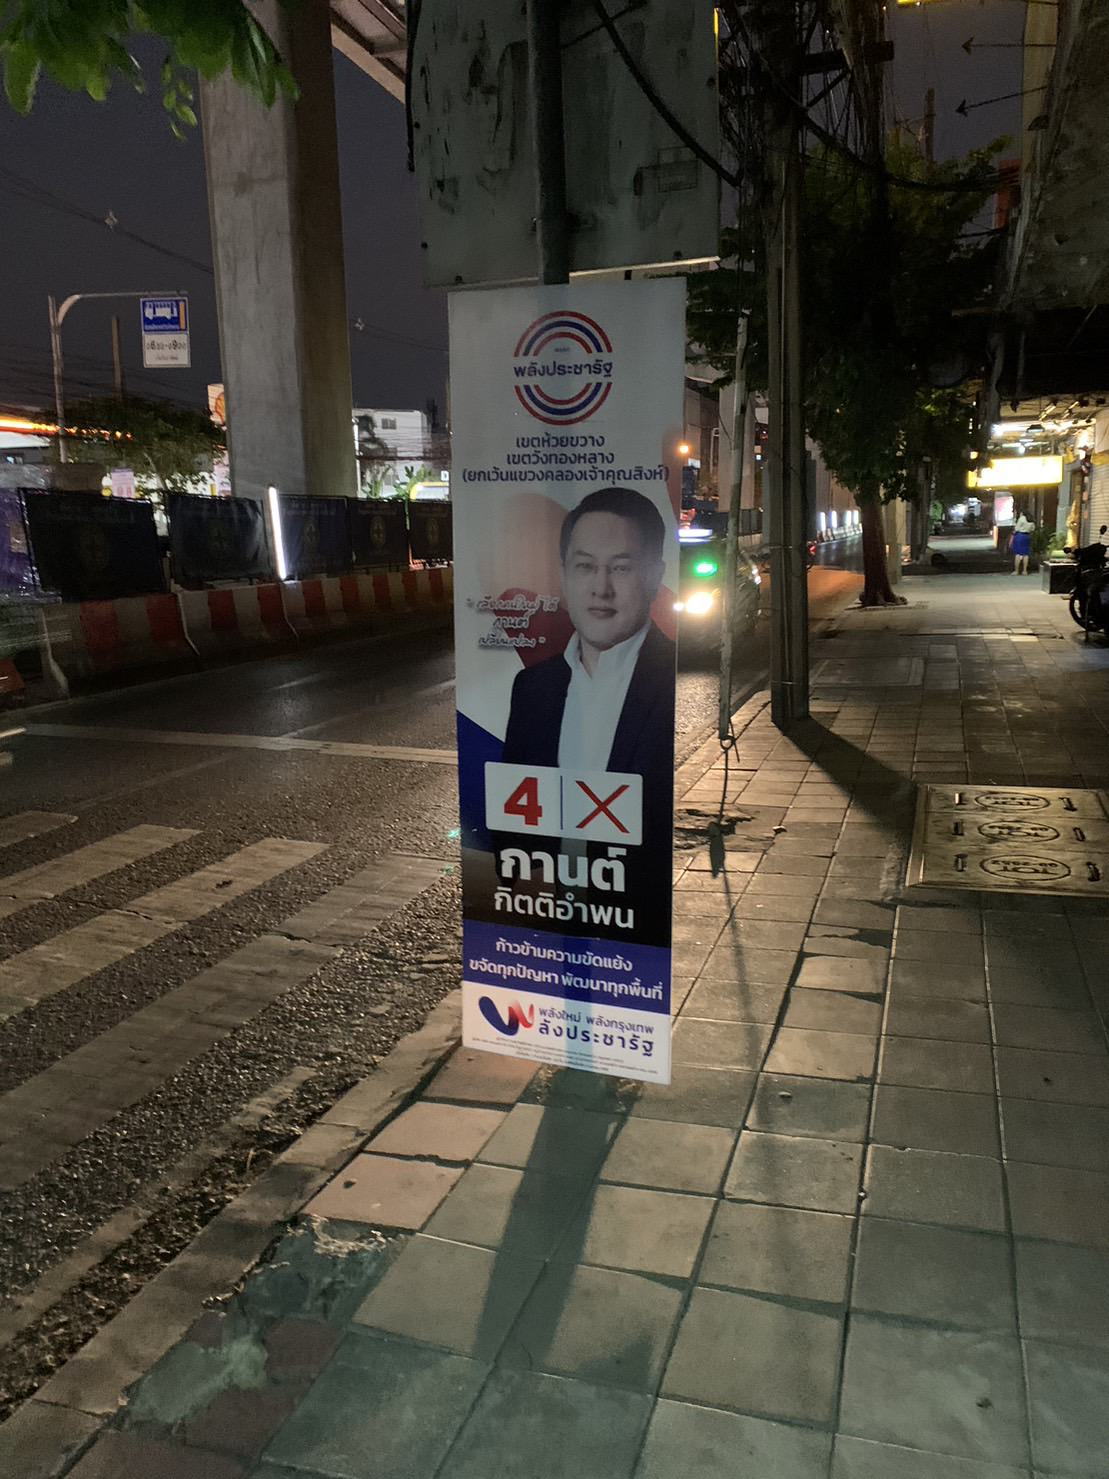Banner: (448, 286, 674, 1062)
